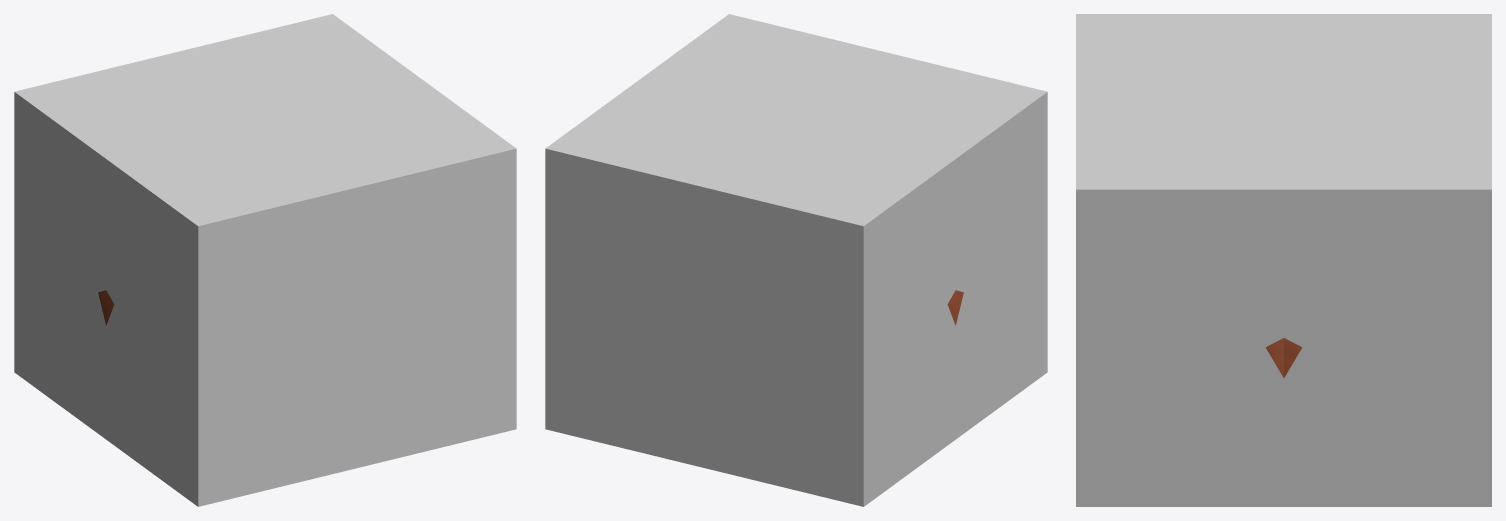
Rendered from SM_Pot.fbx.
The picture shows the model from 3 angles, left to right: view 1: azimuth 30°, elevation 25°; view 2: azimuth 150°, elevation 25°; view 3: azimuth 270°, elevation 25°; orthographic projection. The views are drawn at different scales.
Parts seen in each view (by area): view 1: Pot_Col0; view 2: Pot_Col0; view 3: Pot_Col0, Pot_Body.
Part boxes in pixels (x1,y1,x2,y2): Pot_Col0: (14, 14, 516, 506); Pot_Col0: (545, 14, 1047, 506); Pot_Col0: (1076, 14, 1491, 506); Pot_Body: (1265, 338, 1302, 377).
Size of the model in its own units: 1.96 by 1.6 by 1.9.
